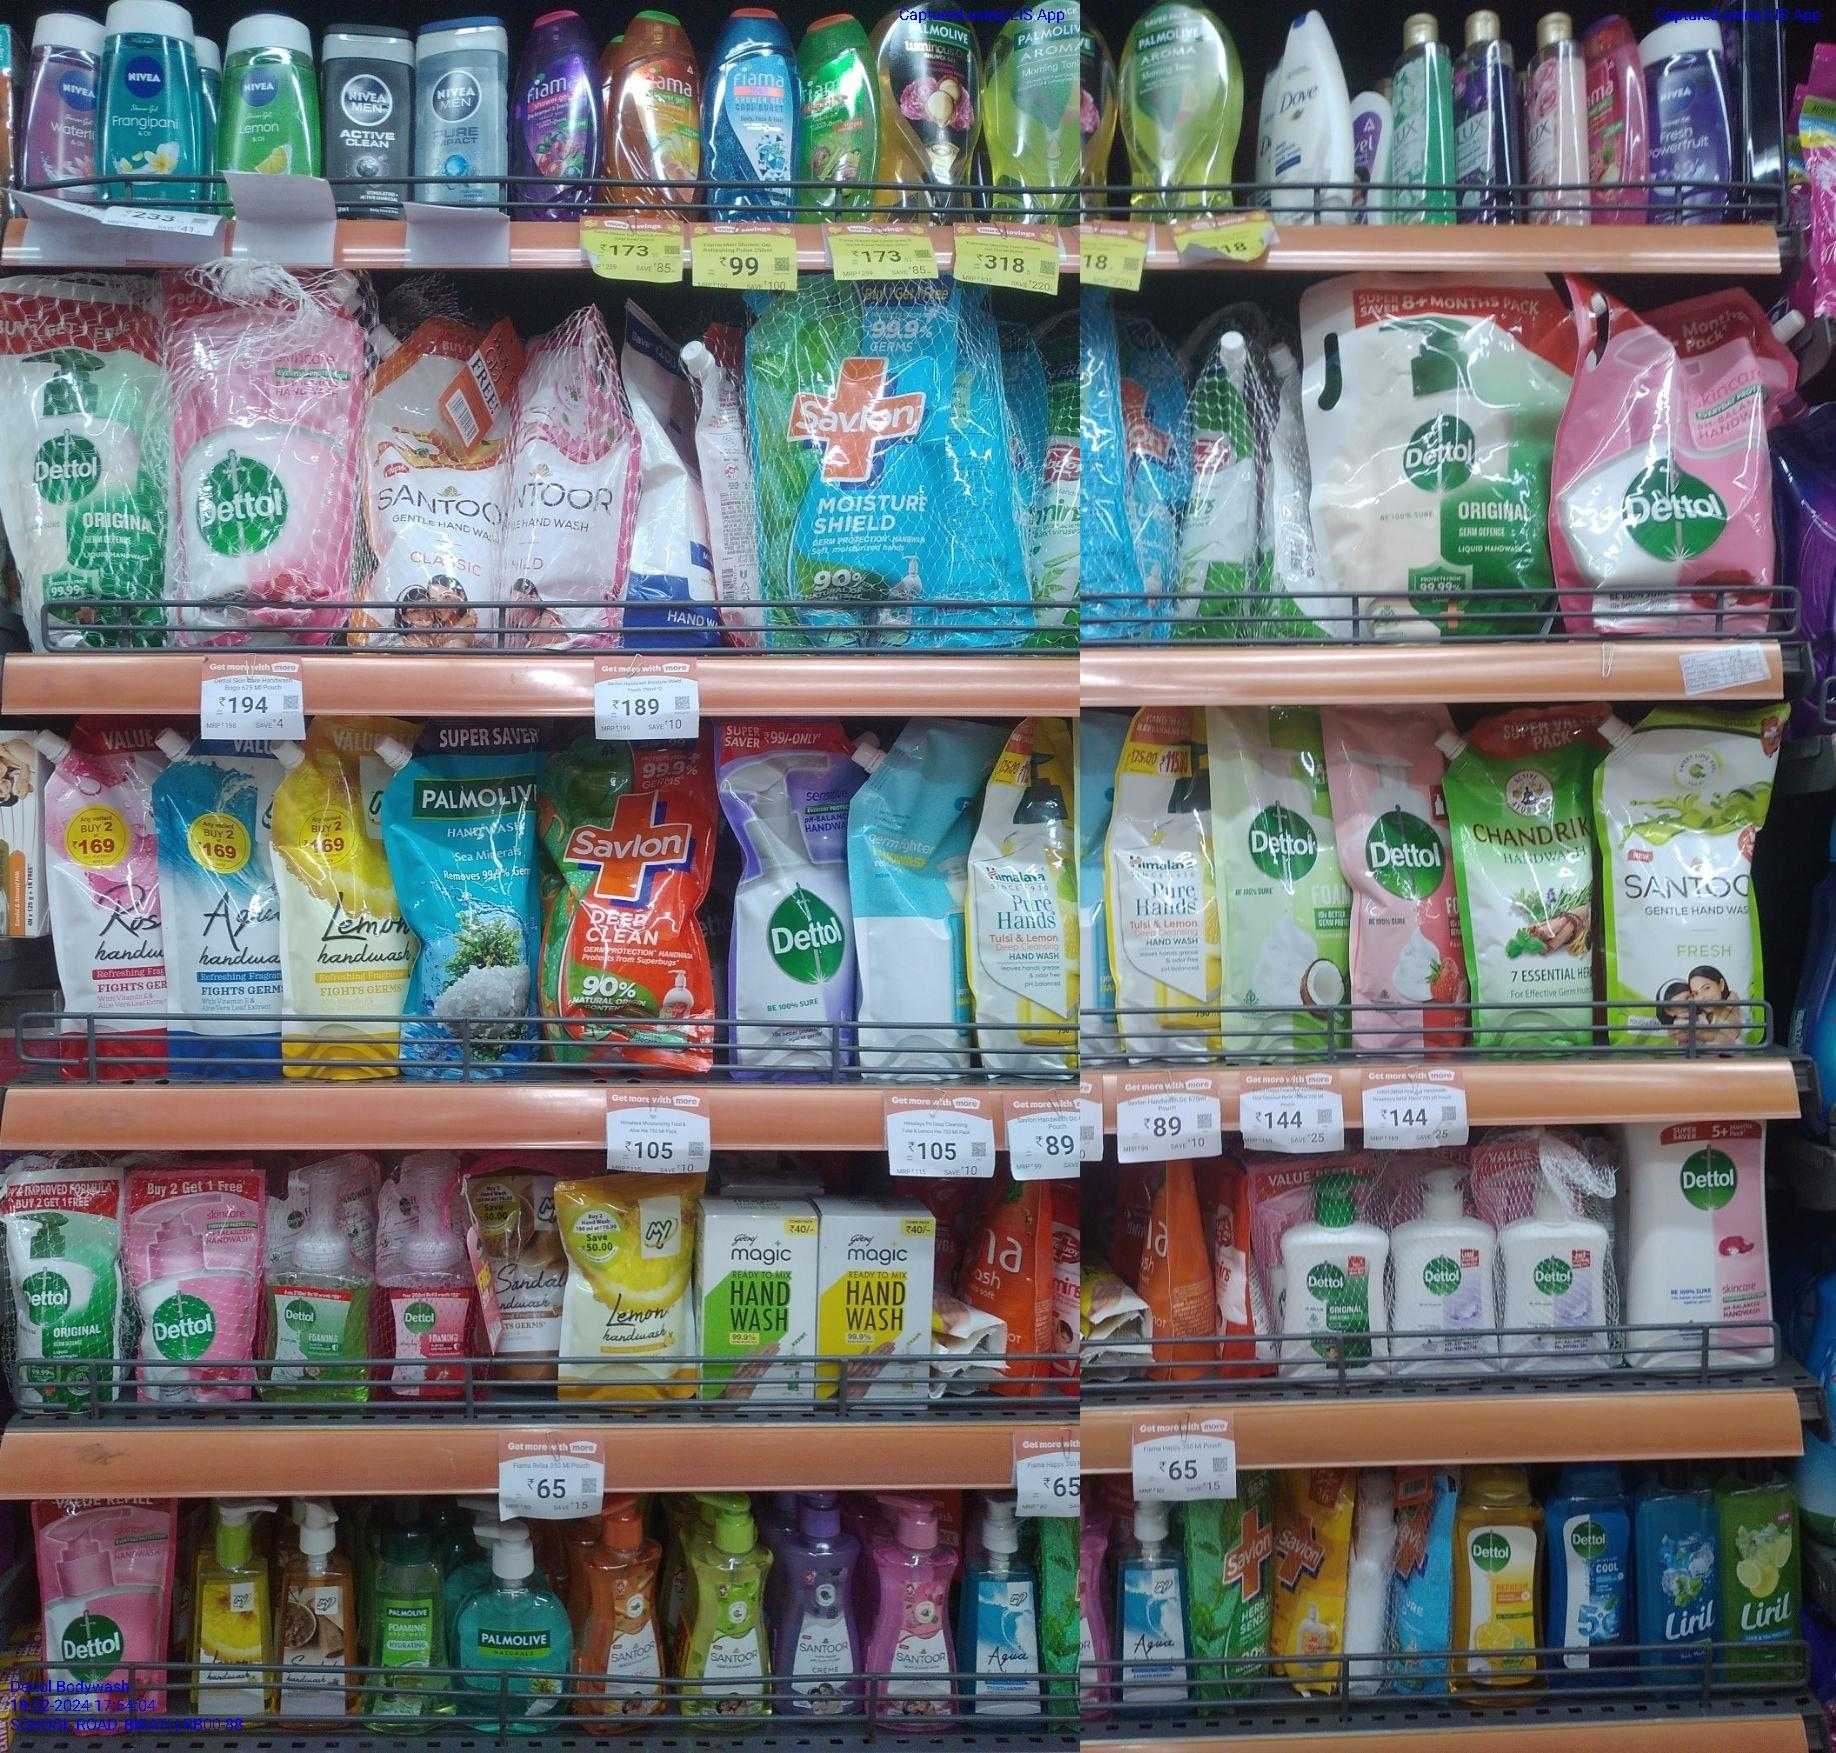Dettol_Bodywash_Cool: (1543, 1459, 1634, 1686)
Dettol_Bodywash_Refresh: (1459, 1476, 1539, 1697)
Dove_Deep_Moisture_Body_Wash_250ML: (1272, 13, 1354, 228)
Fiama_Shower_Gel_Patchouli_and_Macadamia_250ML: (1585, 16, 1652, 218)
Fiama_Shower_Gel_Peach_and_Avocado_250ML: (611, 8, 698, 220)
Liril_Cooling_Mint_Body_Wash_250ML: (1647, 1461, 1721, 1691)
Liril_Lime_and_Tea_Tree_Oil_Body_Wash_250ML: (1726, 1464, 1810, 1682)
Lux_Black_Orchid_Scent_and_Juniper_Oil_Body_Wash_245ML: (1461, 5, 1520, 225)
Lux_Body_Wash_Skin_Detox_Freesia_Scent_and_Alove_Vera_245ML: (1392, 5, 1461, 228)
Nivea_Shower_Gel_Frangipani_and_Oil_250ML: (108, 3, 202, 205)
Nivea_Shower_Gel_Lemon_and_Oil_250ML: (221, 15, 315, 175)
Nivea_Shower_Gel_Waterlily_and_Oil_250ML: (26, 18, 100, 202)
